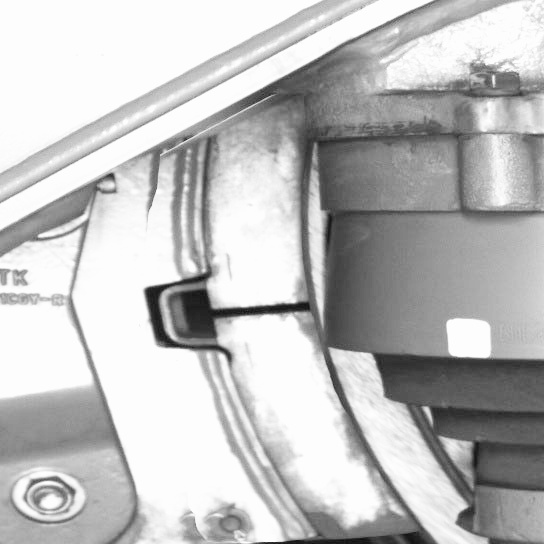ClosedKnifeSwitch: (214, 131, 459, 543)
